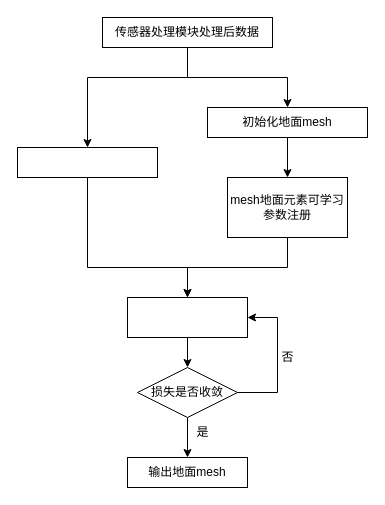
Some shapes in this 385 by 505 pixel diagram are drawn without their labels. Here are the shapes that lost their labels. From the top down, the centre of each, then its label:
At point (87, 162): "语义分割滤除无关元素".
At point (187, 317): "投影损失计算".
